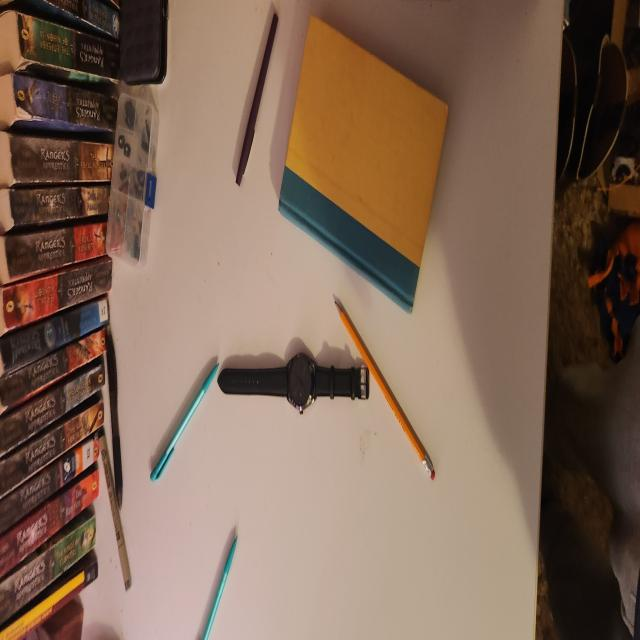Book: (277, 17, 450, 312)
Pen: (149, 357, 220, 484), (236, 14, 279, 187), (108, 357, 135, 593), (198, 536, 237, 640)
Pencil: (333, 299, 438, 481)
Watch: (215, 351, 370, 416)
